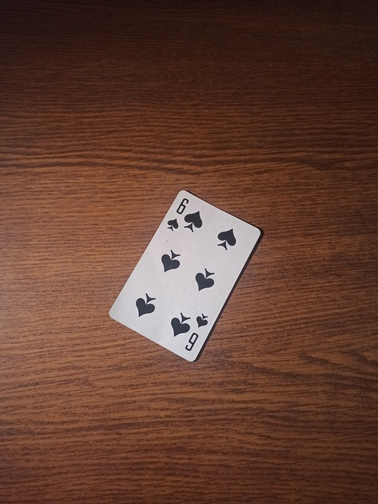sixspades: (108, 188, 263, 365)
